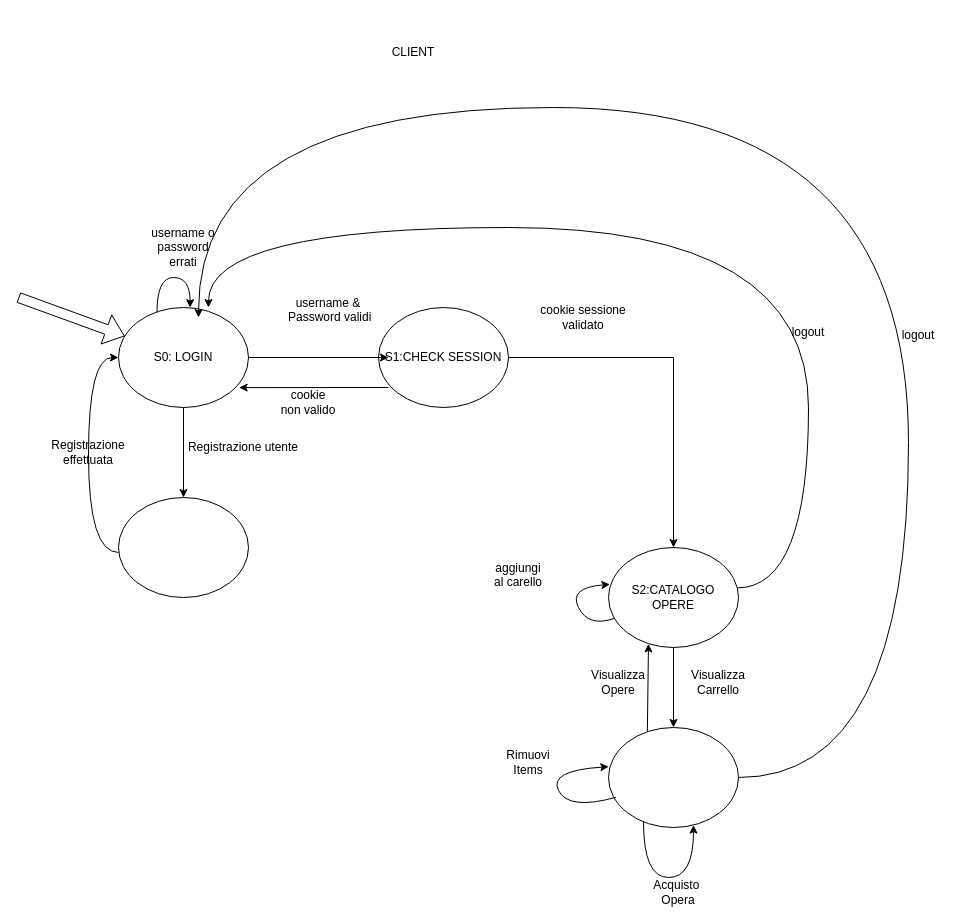
Some shapes in this 966 by 924 pixel diagram are drawn without their labels. Each missing label, with the centre of its shape:
S3: REGISTRAZIONE: (183,547)
S4: IL MIO CARRELLO: (673,777)
